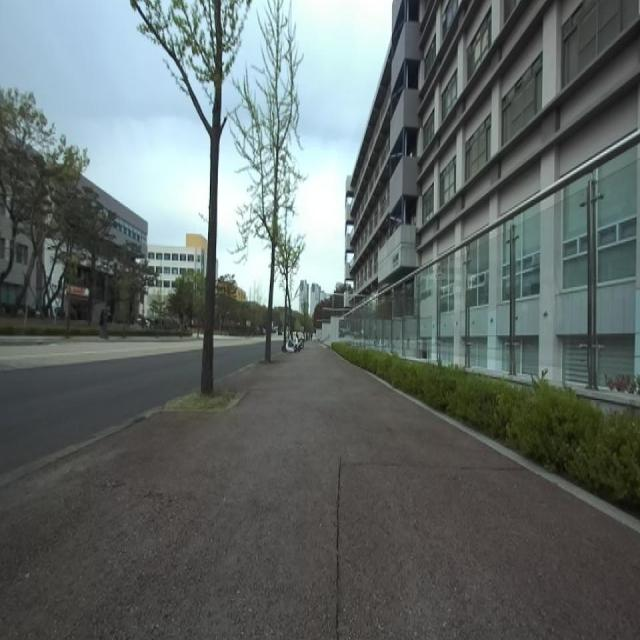sidewalk: (0, 342, 640, 639), (362, 369, 640, 533), (0, 407, 164, 487)
